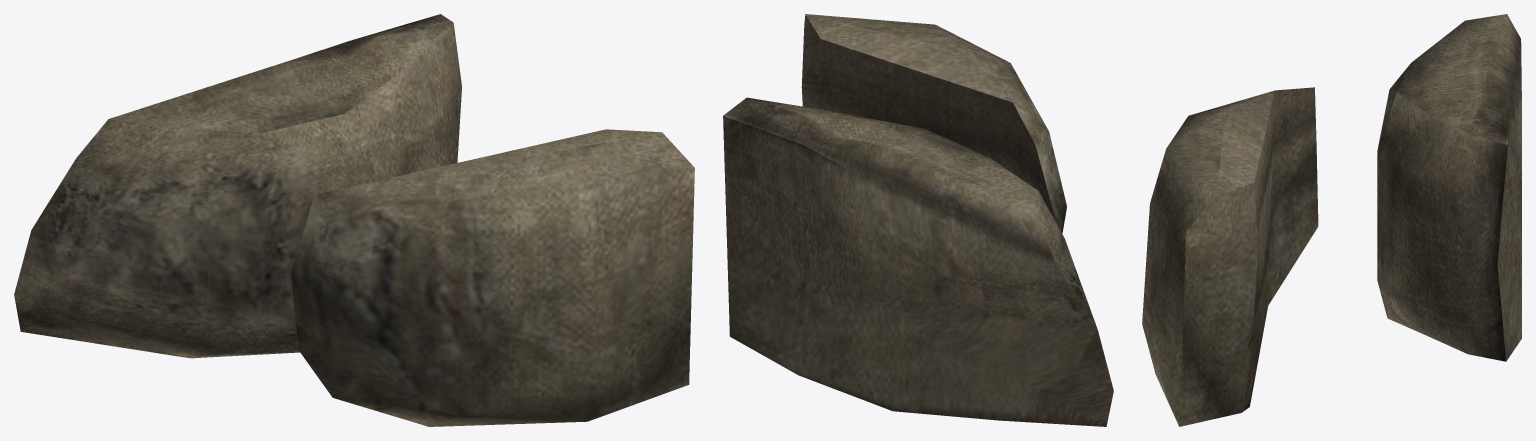
File: military_sandbag_group_exploded_right.glb
3 views of the same model, side by side, from view 1: azimuth 30°, elevation 25°; view 2: azimuth 150°, elevation 25°; view 3: azimuth 270°, elevation 25° (orthographic). The views are drawn at different scales.
Bounding box in the file's own units: 31.18 × 16.75 × 21.52.
Materials: 1 (1 with a texture image).
